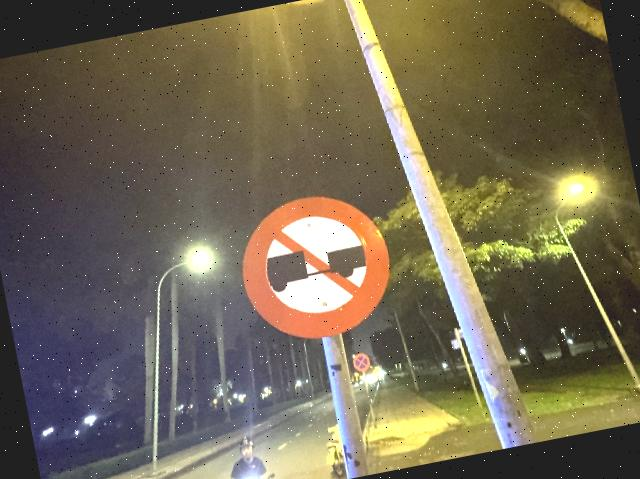cam-xe-somi-romooc: (230, 182, 402, 352)
